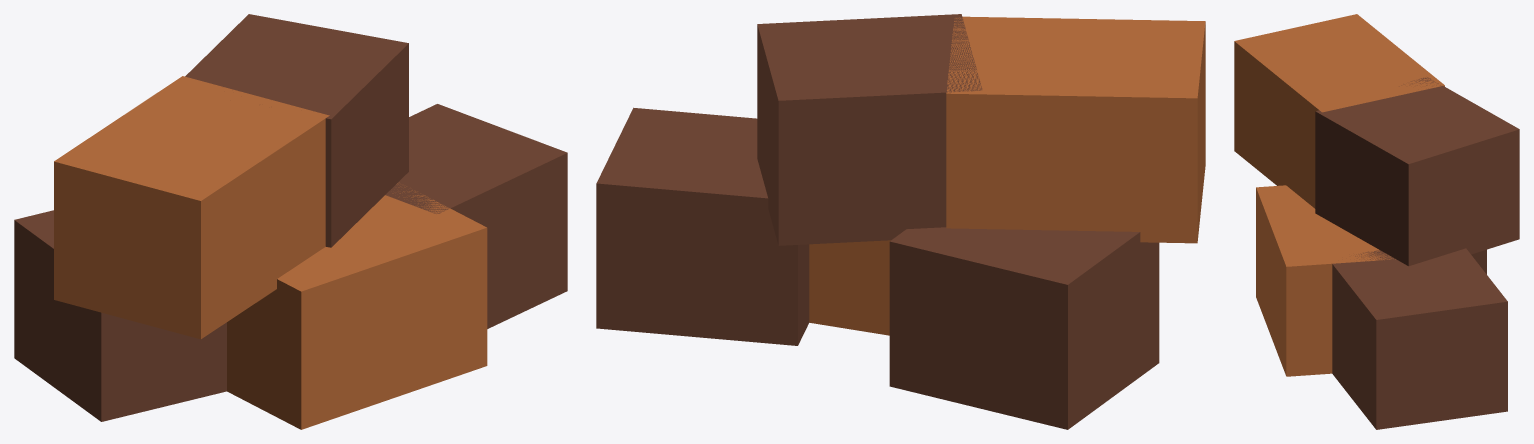
File: story-prop.glb
3 renders of one model, left to right at view 1: azimuth 30°, elevation 25°; view 2: azimuth 150°, elevation 25°; view 3: azimuth 270°, elevation 25°, orthographic. The views are drawn at different scales.
Parts seen in each view (by area): view 1: crate_3, crate_1, crate_4, crate_2, crate_0; view 2: crate_3, crate_0, crate_4, crate_2, crate_1; view 3: crate_4, crate_2, crate_3, crate_1.
Boxes of the visible parts, box(x1,y1,x2,y2) form: crate_3: box(54, 76, 329, 339); crate_1: box(227, 182, 487, 429); crate_4: box(185, 14, 408, 247); crate_2: box(385, 104, 567, 328); crate_0: box(14, 210, 226, 421); crate_3: box(946, 16, 1205, 243); crate_0: box(889, 227, 1159, 429); crate_4: box(757, 14, 982, 245); crate_2: box(596, 107, 809, 345); crate_1: box(809, 240, 890, 335); crate_4: box(1315, 77, 1519, 266); crate_2: box(1332, 248, 1507, 429); crate_3: box(1234, 14, 1444, 208); crate_1: box(1256, 185, 1395, 376).
Size of what is drawn, in the model's own units: 2.79 by 1.35 by 1.65.
